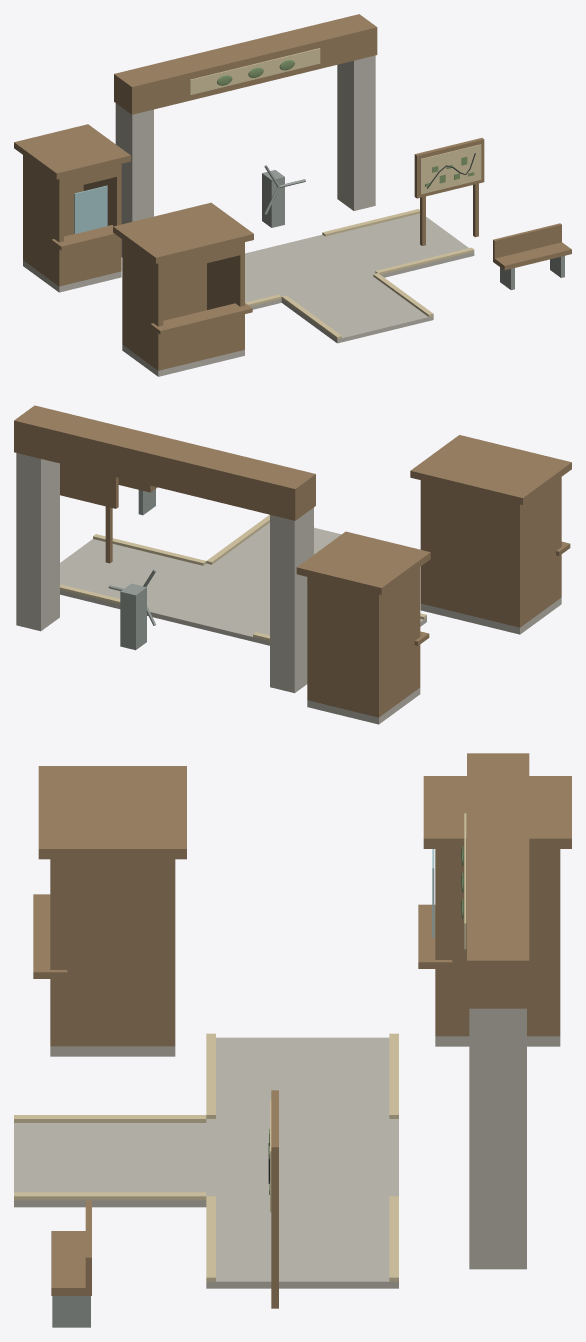
The model's file is zoo-and-safari-park-builder-entrance-plaza-7b4fcad4__21528.glb.
3 renders of one model, top to bottom at view 1: azimuth 30°, elevation 25°; view 2: azimuth 150°, elevation 25°; view 3: azimuth 270°, elevation 25°, orthographic. The views are drawn at different scales.
Parts seen in each view (by area): view 1: 004-kiosk/1, 001-ticket-booth/1, 000-entrance-arch/1, 000-entrance-arch/0, 009-path-straight/0, 006-path-cross/0, 007-path-straight/0, 005-bench/0, 003-park-map-board/1, 000-entrance-arch/2, 003-park-map-board/0, 001-ticket-booth/2 (+7 smaller); view 2: 004-kiosk/1, 001-ticket-booth/1, 000-entrance-arch/1, 000-entrance-arch/0, 006-path-cross/0, 007-path-straight/0, 003-park-map-board/0, 009-path-straight/0, 002-turnstile-gate/0, 004-kiosk/0, 007-path-straight/1, 001-ticket-booth/0 (+1 smaller); view 3: 004-kiosk/1, 001-ticket-booth/1, 000-entrance-arch/1, 000-entrance-arch/0, 009-path-straight/0, 007-path-straight/0, 006-path-cross/0, 008-path-straight/0, 009-path-straight/1, 005-bench/0, 003-park-map-board/0, 007-path-straight/1 (+4 smaller).
Boxes of the visible parts, x1,y1,x2,y2 form: 004-kiosk/1: (113, 202, 253, 370); 001-ticket-booth/1: (14, 124, 130, 286); 000-entrance-arch/1: (114, 14, 377, 114); 000-entrance-arch/0: (115, 55, 375, 257); 009-path-straight/0: (281, 276, 433, 343); 006-path-cross/0: (245, 234, 375, 296); 007-path-straight/0: (325, 213, 474, 277); 005-bench/0: (493, 223, 571, 270); 003-park-map-board/1: (420, 144, 481, 194); 000-entrance-arch/2: (190, 48, 320, 94); 003-park-map-board/0: (414, 138, 484, 245); 001-ticket-booth/2: (74, 185, 107, 233); 004-kiosk/1: (410, 435, 571, 627); 001-ticket-booth/1: (296, 531, 430, 717); 000-entrance-arch/1: (14, 405, 315, 520); 000-entrance-arch/0: (16, 453, 313, 693); 006-path-cross/0: (147, 563, 269, 641); 007-path-straight/0: (60, 539, 202, 608); 003-park-map-board/0: (60, 463, 118, 563); 009-path-straight/0: (212, 522, 341, 578); 002-turnstile-gate/0: (108, 569, 156, 650); 004-kiosk/0: (420, 597, 561, 634); 007-path-straight/1: (60, 534, 206, 604); 001-ticket-booth/0: (307, 687, 420, 724); 004-kiosk/1: (33, 766, 186, 1046); 001-ticket-booth/1: (418, 776, 571, 1036); 000-entrance-arch/1: (467, 753, 529, 1008); 000-entrance-arch/0: (469, 1008, 526, 1269); 009-path-straight/0: (14, 1123, 206, 1207); 007-path-straight/0: (206, 1200, 398, 1288); 006-path-cross/0: (206, 1119, 398, 1200); 008-path-straight/0: (216, 1037, 389, 1118); 009-path-straight/1: (14, 1115, 206, 1200); 005-bench/0: (51, 1200, 91, 1295); 003-park-map-board/0: (271, 1090, 278, 1308); 007-path-straight/1: (206, 1196, 398, 1281).
Bounding box in the file's own units: 8.72 × 3.55 × 5.8.
